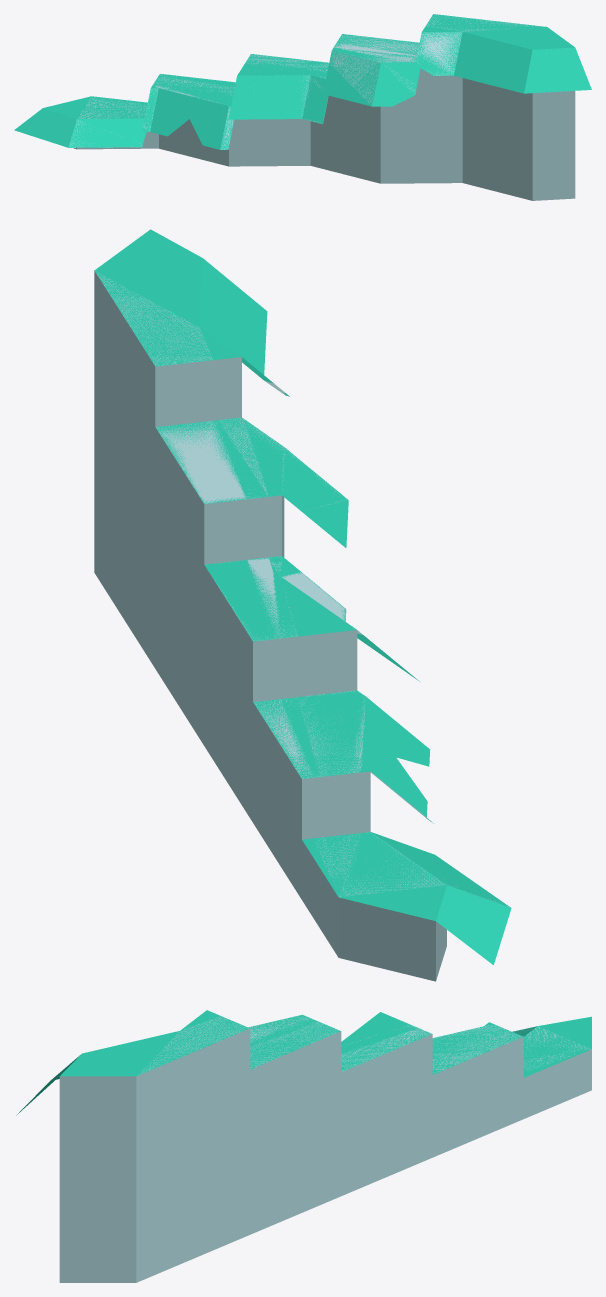
File: cliff_stairBorderDiagonal_lower_right_stone.fbx
The picture shows the model from 3 angles, top to bottom: view 1: azimuth 30°, elevation 25°; view 2: azimuth 150°, elevation 25°; view 3: azimuth 270°, elevation 25°; orthographic projection. The views are drawn at different scales.
Parts seen in each view (by area): view 1: cliff_topDiagonal_stone; view 2: cliff_topDiagonal_stone; view 3: cliff_topDiagonal_stone.
Boxes of the visible parts, <box> form: cliff_topDiagonal_stone: <box>14,14,591,200</box>; cliff_topDiagonal_stone: <box>94,229,511,981</box>; cliff_topDiagonal_stone: <box>16,1010,591,1282</box>.
Bounding box in the file's own units: 12.68 × 5 × 12.68.
